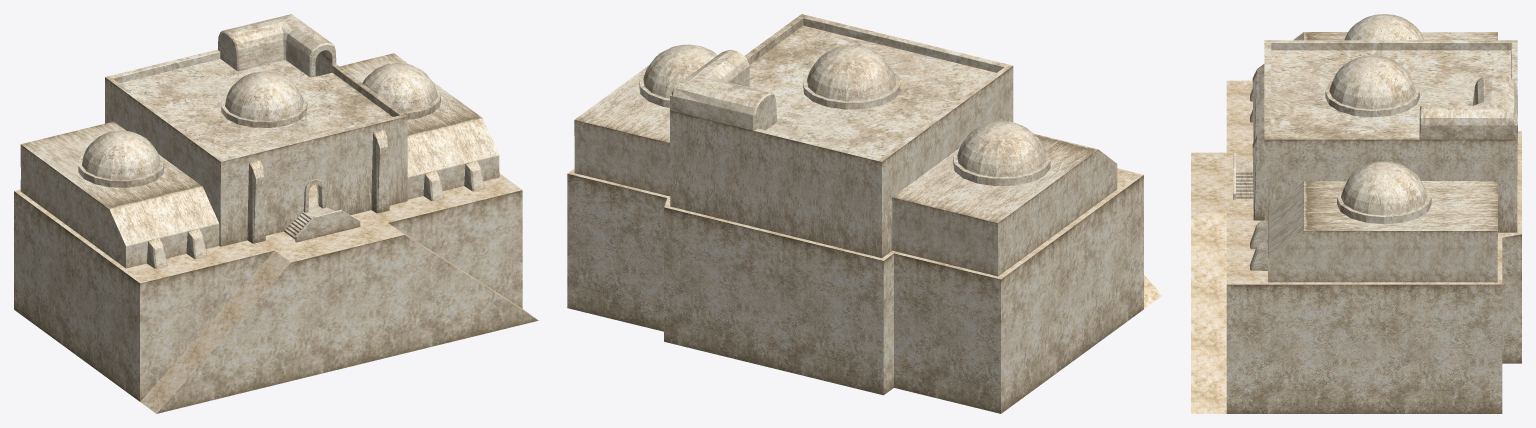
The model's file is ply_tato_assoc_hall_civ_s02_r0_mesh_l0.fbx.
3 renders of one model, left to right at view 1: azimuth 30°, elevation 25°; view 2: azimuth 150°, elevation 25°; view 3: azimuth 270°, elevation 25°, orthographic. The views are drawn at different scales.
Parts seen in each view (by area): view 1: mesh_node; view 2: mesh_node; view 3: mesh_node.
Part boxes in pixels (x1,y1,x2,y2): mesh_node: (14, 14, 538, 413); mesh_node: (567, 14, 1162, 413); mesh_node: (1191, 14, 1521, 413).
Size of the model in its own units: 54.03 by 31.2 by 37.08.
